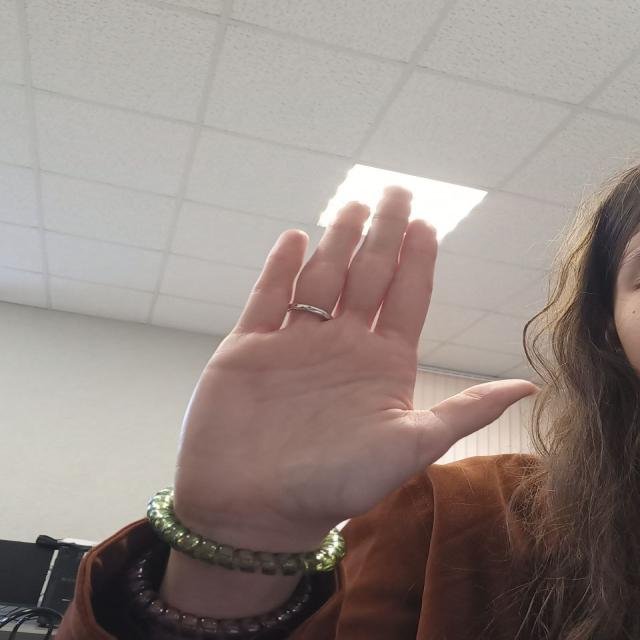v: (180, 178, 564, 524)
